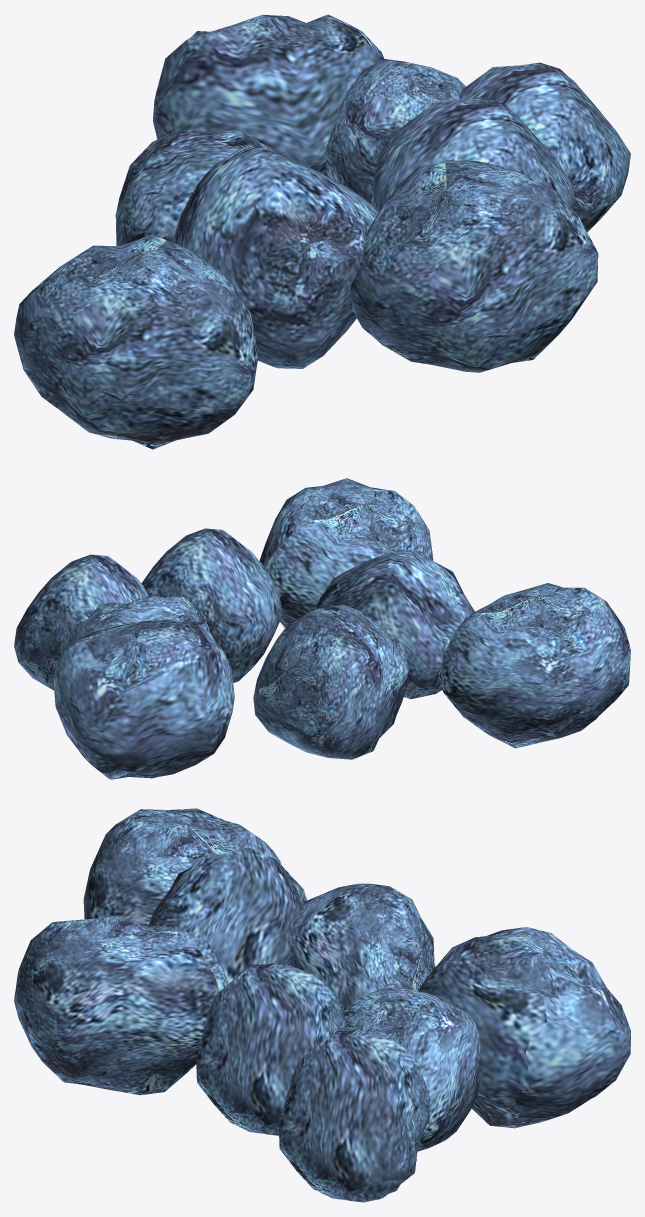
Rendered from mengkuangshi_2.fbx.
3 views of the same model, one above another, from view 1: azimuth 30°, elevation 25°; view 2: azimuth 150°, elevation 25°; view 3: azimuth 270°, elevation 25° (orthographic). The views are drawn at different scales.
Parts seen in each view (by area): view 1: polySurface23; view 2: polySurface23; view 3: polySurface23.
Boxes of the visible parts, x1,y1,x2,y2 form: polySurface23: (14, 14, 630, 449); polySurface23: (14, 478, 630, 779); polySurface23: (14, 808, 630, 1202).
Size of the model in its own units: 128 by 41.78 by 114.
1 material, 1 textured.
